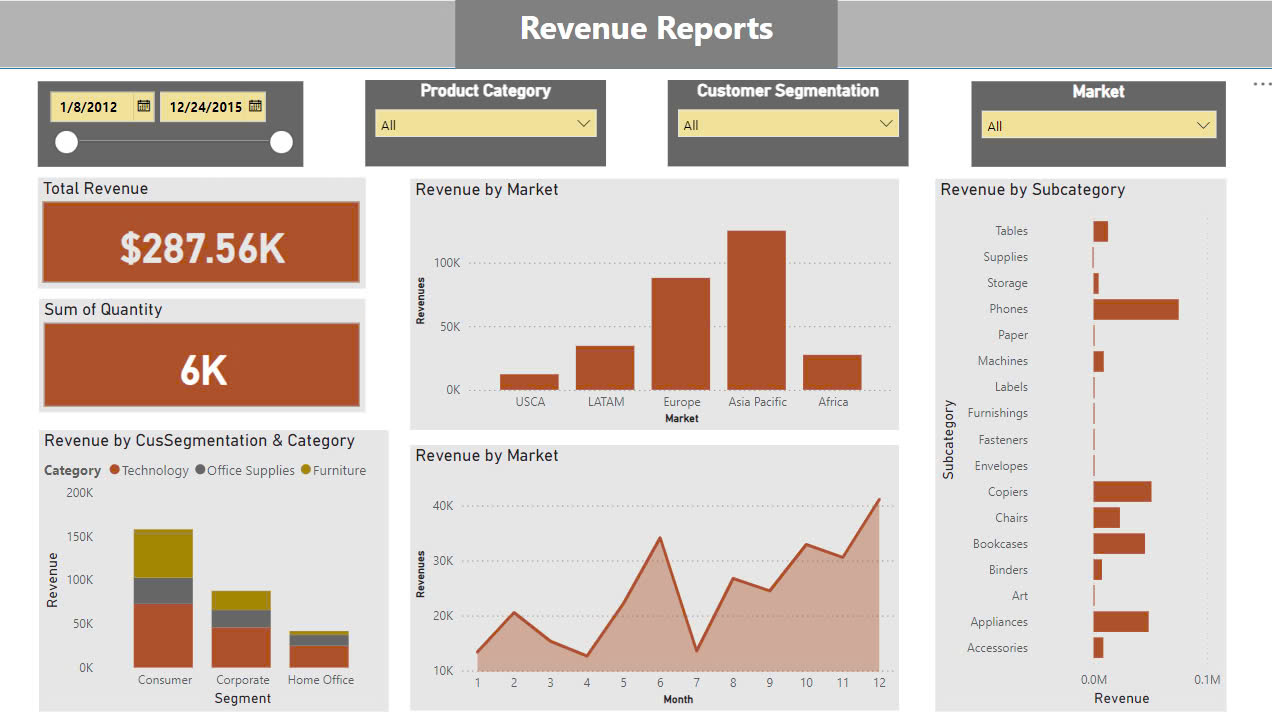

The page's visual inventory and layout, read from the dashboard file:
{"tool":"powerbi","page":{"name":"Page 1","canvas":[1280,720],"ordinal":0},"visuals":[{"type":"shape","box":[0,0,1280,69],"z":0},{"type":"textbox","box":[456,0,382,69],"z":1000},{"type":"slicer","title":"Thời gian","fields":{"Values":["dim_time_order.FullDate"]},"box":[38.9,81.1,265.6,85.6],"z":2000},{"type":"slicer","title":"Market","fields":{"Values":["dim_region.Market"]},"box":[972.2,81.1,254.4,85.6],"z":3000},{"type":"slicer","title":"Product Category","fields":{"Values":["dim_product.Category"]},"box":[366.7,80,241.1,86.7],"z":4000},{"type":"slicer","title":"Customer Segmentation","fields":{"Values":["dim_customer.Segment"]},"box":[668.9,80,241.1,86.7],"z":5000},{"type":"cardVisual","title":"Total Revenue","fields":{"Data":["Measure Table.Doanh thu"]},"box":[39.3,177.6,327.8,110.9],"z":6000},{"type":"cardVisual","title":"Sum of Quantity","fields":{"Data":["Sum(fact_salesorder.Quantity)"]},"box":[40.5,299.2,326.6,113.2],"z":7000},{"type":"columnChart","title":"Revenue by Market","fields":{"Category":["dim_region.Market"],"Y":["Measure Table.Revenue"]},"box":[411.1,178.9,488.9,251.1],"z":8000},{"type":"columnChart","title":"Revenue by CusSegmentation & Category","fields":{"Category":["dim_customer.Segment"],"Y":["Measure Table.Revenue"],"Series":["dim_product.Category"]},"box":[40.5,430.3,349.3,281.3],"z":9000},{"type":"clusteredBarChart","fields":{"Category":["dim_product.Subcategory"],"Y":["Measure Table.Revenue"]},"box":[935.7,178.8,290.9,532.8],"z":10000},{"type":"areaChart","title":"Revenue by Market","fields":{"Y":["Measure Table.Revenue"],"Category":["dim_time_order.Ordermonth"]},"box":[411.1,445.6,488.9,265.6],"z":11000}]}

Visuals, with their boxes in screenshot pixels (x1, y1, x2, y2), scaled from the page's 1280x720 canvas onto the 1272x717 screenshot:
shape: (0,0,1271,69)
textbox: (453,0,833,69)
"Thời gian" slicer: (39,81,303,166)
"Market" slicer: (966,81,1219,166)
"Product Category" slicer: (364,80,604,166)
"Customer Segmentation" slicer: (665,80,904,166)
"Total Revenue" cardVisual: (39,177,365,287)
"Sum of Quantity" cardVisual: (40,298,365,411)
"Revenue by Market" columnChart: (409,178,894,428)
"Revenue by CusSegmentation & Category" columnChart: (40,429,387,709)
clusteredBarChart - dim_product.Subcategory x Measure Table.Revenue: (930,178,1219,709)
"Revenue by Market" areaChart: (409,444,894,708)
